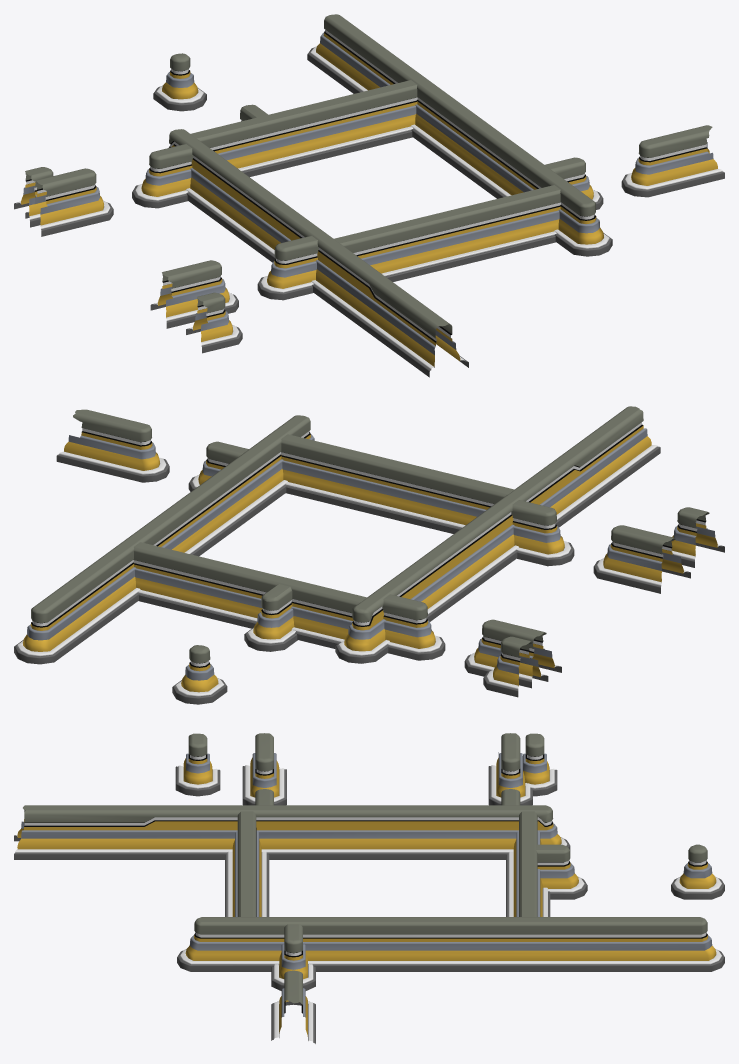
Rendered from Small walls.fbx.
3 views of the same model, one above another, from view 1: azimuth 30°, elevation 25°; view 2: azimuth 150°, elevation 25°; view 3: azimuth 270°, elevation 25° (orthographic). The views are drawn at different scales.
Parts seen in each view (by area): view 1: Small_wall_L24, Small_wallv1_11, Small_wallv1_80, Small_wallv1_36, Small_wallv1_82, Small_wallv1_84, Small_wallv1_81, Small_wallv1_83, Small_wallv1_86, Small_wallv1_87, Small_wallv1_37, Small_wallv1_85; view 2: Small_wall_L24, Small_wallv1_11, Small_wallv1_80, Small_wallv1_36, Small_wallv1_84, Small_wallv1_83, Small_wallv1_81, Small_wallv1_82, Small_wall_L106, Small_wallv1_87, Small_wallv1_85, Small_wallv1_86 (+1 smaller); view 3: Small_wallv1_80, Small_wallv1_11, Small_wall_L24, Small_wallv1_84, Small_wallv1_82, Small_wall_L106, Small_wallv1_86, Small_wallv1_87, Small_wallv1_37, Small_wallv1_36, Small_wallv1_85.
Part boxes in pixels (x1,y1,x2,y2): Small_wall_L24: (190, 80, 560, 281); Small_wallv1_11: (168, 129, 468, 377); Small_wallv1_80: (307, 14, 612, 256); Small_wallv1_36: (621, 125, 724, 197); Small_wallv1_82: (25, 168, 113, 236); Small_wallv1_84: (150, 260, 238, 328); Small_wallv1_81: (132, 144, 193, 208); Small_wallv1_83: (257, 235, 318, 300); Small_wallv1_86: (186, 292, 242, 353); Small_wallv1_87: (153, 53, 206, 111); Small_wallv1_37: (545, 157, 603, 209); Small_wallv1_85: (14, 167, 53, 227); Small_wall_L24: (133, 434, 514, 648); Small_wallv1_11: (335, 406, 660, 663); Small_wallv1_80: (14, 415, 314, 664); Small_wallv1_36: (56, 409, 169, 482); Small_wallv1_84: (593, 525, 690, 593); Small_wallv1_83: (511, 500, 574, 566); Small_wallv1_81: (382, 594, 445, 660); Small_wallv1_82: (464, 619, 561, 688); Small_wall_L106: (244, 584, 297, 651); Small_wallv1_87: (172, 645, 227, 704); Small_wallv1_85: (483, 636, 548, 697); Small_wallv1_86: (671, 507, 724, 567); Small_wallv1_80: (177, 917, 724, 971); Small_wallv1_11: (14, 805, 570, 859); Small_wall_L24: (225, 811, 550, 916); Small_wallv1_84: (242, 733, 286, 805); Small_wallv1_82: (488, 733, 532, 805); Small_wall_L106: (536, 844, 587, 899); Small_wallv1_86: (175, 733, 220, 796); Small_wallv1_87: (671, 844, 724, 899); Small_wallv1_37: (271, 924, 315, 990); Small_wallv1_36: (271, 970, 315, 1043); Small_wallv1_85: (523, 733, 557, 796).
Bounding box in the file's own units: 509 × 38.38 × 551.
